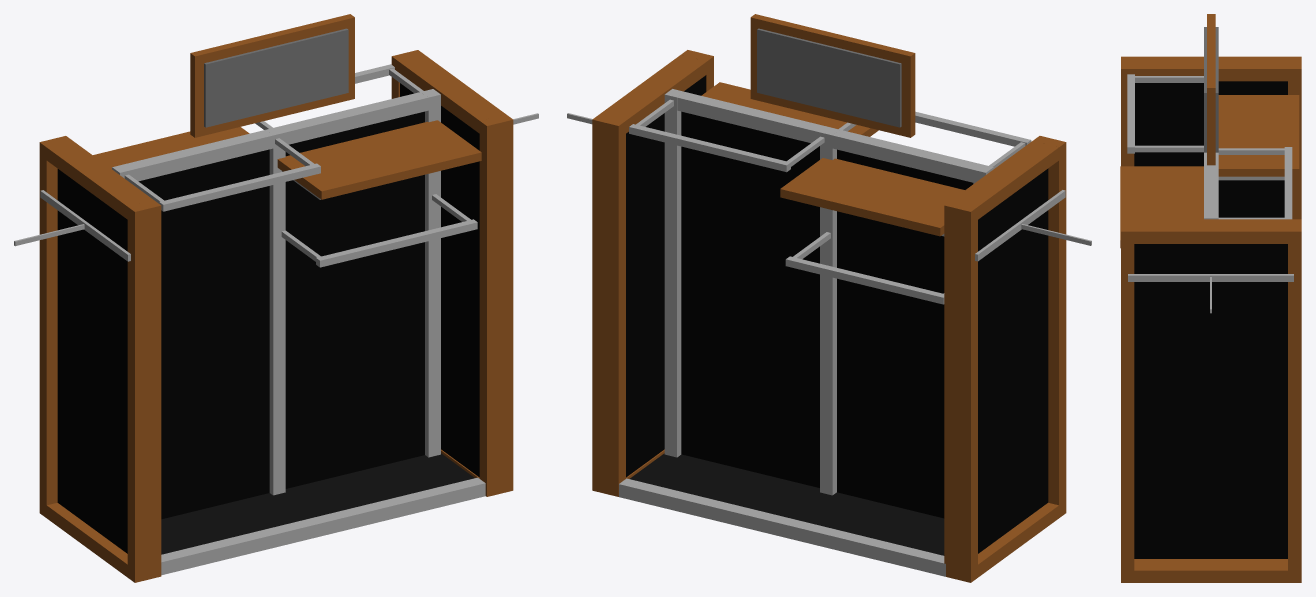
The model's file is ss-clothes-rack.lod0.glb.
3 renders of one model, left to right at view 1: azimuth 30°, elevation 25°; view 2: azimuth 150°, elevation 25°; view 3: azimuth 270°, elevation 25°, orthographic. The views are drawn at different scales.
Parts seen in each view (by area): view 1: Object_5, Object_36; view 2: Object_5, Object_36; view 3: Object_5, Object_36.
Part boxes in pixels (box(x1,y1,x2,y2)): Object_5: box(39, 14, 513, 582); Object_36: box(14, 64, 538, 575); Object_5: box(592, 14, 1066, 582); Object_36: box(567, 89, 1091, 576); Object_5: box(1120, 14, 1301, 582); Object_36: box(1127, 74, 1293, 313).
Bounding box in the file's own units: 1.58 × 1.35 × 0.4994.
